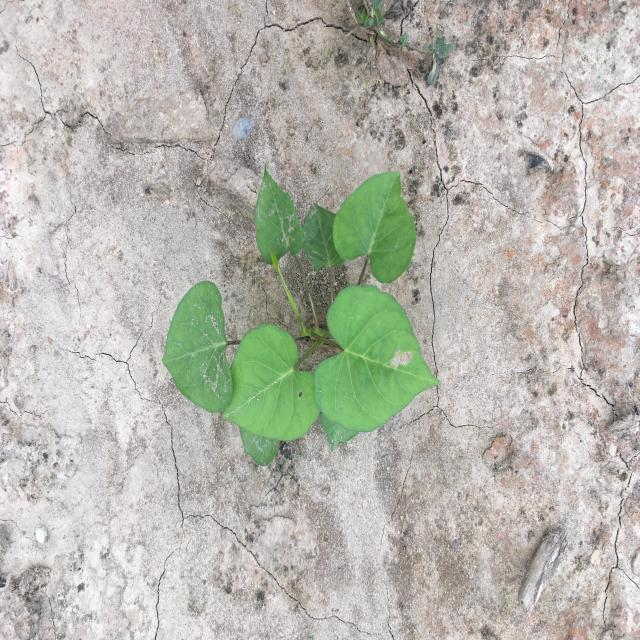MorningGlory: (162, 162, 441, 468)
